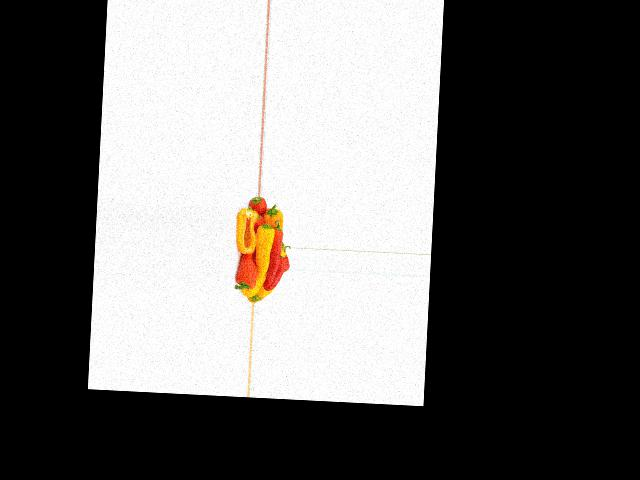bell_pepper: (248, 195, 270, 227)
